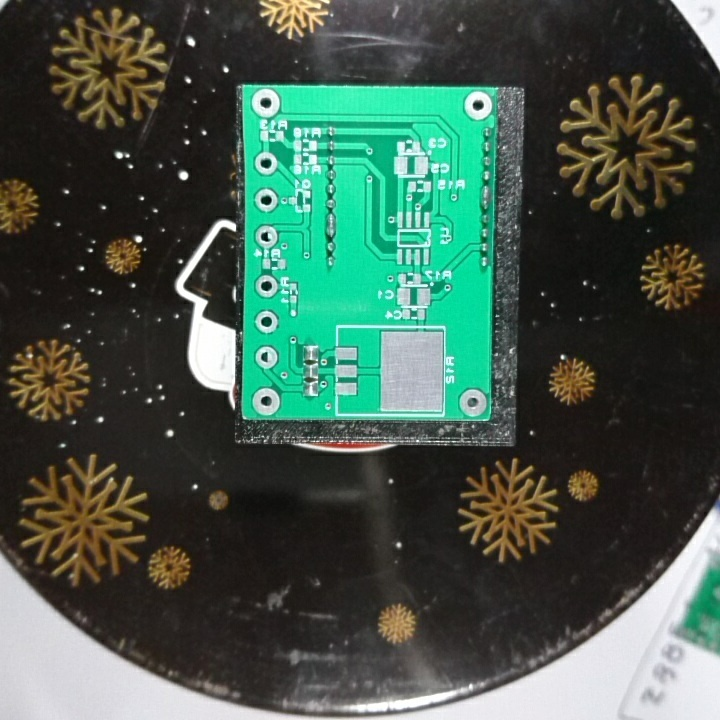F: (248, 86, 285, 118), (461, 89, 493, 122), (250, 387, 282, 418), (458, 387, 489, 418), (251, 150, 280, 178), (252, 225, 281, 252), (252, 188, 279, 215), (253, 309, 281, 335), (254, 273, 279, 302), (254, 346, 282, 370)
P: (322, 210, 339, 239), (477, 184, 493, 211)
